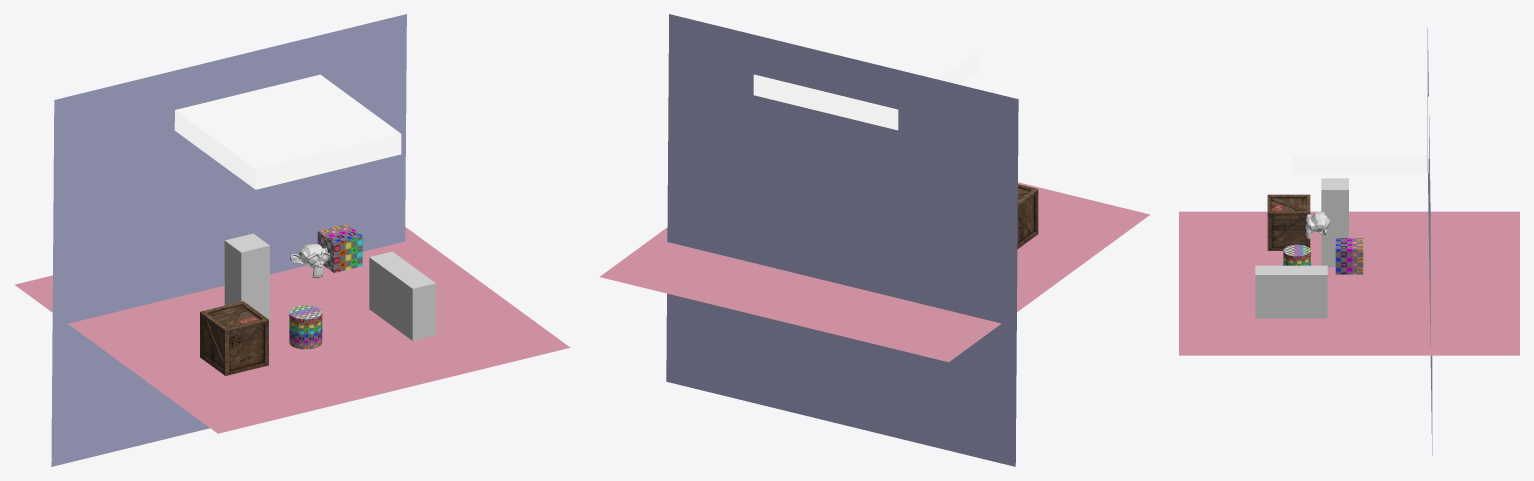
File: pathtracer_test_texture.gltf
3 views of the same model, side by side, from view 1: azimuth 30°, elevation 25°; view 2: azimuth 150°, elevation 25°; view 3: azimuth 270°, elevation 25° (orthographic). The views are drawn at different scales.
Parts seen in each view (by area): view 1: Plane.002, Plane.001, Cube.002, Cube.001, Old Crate, Cube, Cube.003, Cylinder, Suzanne; view 2: Plane.002, Plane.001, Cube.002, Old Crate; view 3: Plane.001, Cube.002, Cube.001, Old Crate, Cube, Cube.003, Plane.002, Cylinder, Suzanne.
Part boxes in pixels (x1,y1,x2,y2): Plane.002: (51, 14, 406, 466); Plane.001: (14, 227, 570, 433); Cube.002: (174, 74, 401, 189); Cube.001: (369, 251, 435, 340); Old Crate: (200, 301, 268, 375); Cube: (224, 233, 269, 337); Cube.003: (317, 224, 362, 272); Cylinder: (289, 305, 322, 349); Suzanne: (290, 244, 330, 278); Plane.002: (666, 14, 1018, 466); Plane.001: (600, 182, 1149, 362); Cube.002: (753, 16, 978, 130); Old Crate: (1017, 184, 1038, 249); Plane.001: (1179, 211, 1519, 355); Cube.002: (1292, 96, 1428, 173); Cube.001: (1255, 265, 1327, 318); Old Crate: (1267, 194, 1310, 250); Cube: (1321, 178, 1348, 267); Cube.003: (1335, 238, 1363, 274); Plane.002: (1427, 28, 1432, 455); Cylinder: (1283, 244, 1310, 265); Suzanne: (1305, 212, 1329, 238).
Bounding box in the file's own units: 25.67 × 24.6 × 24.61.
Materials: 9 (3 with a texture image).
